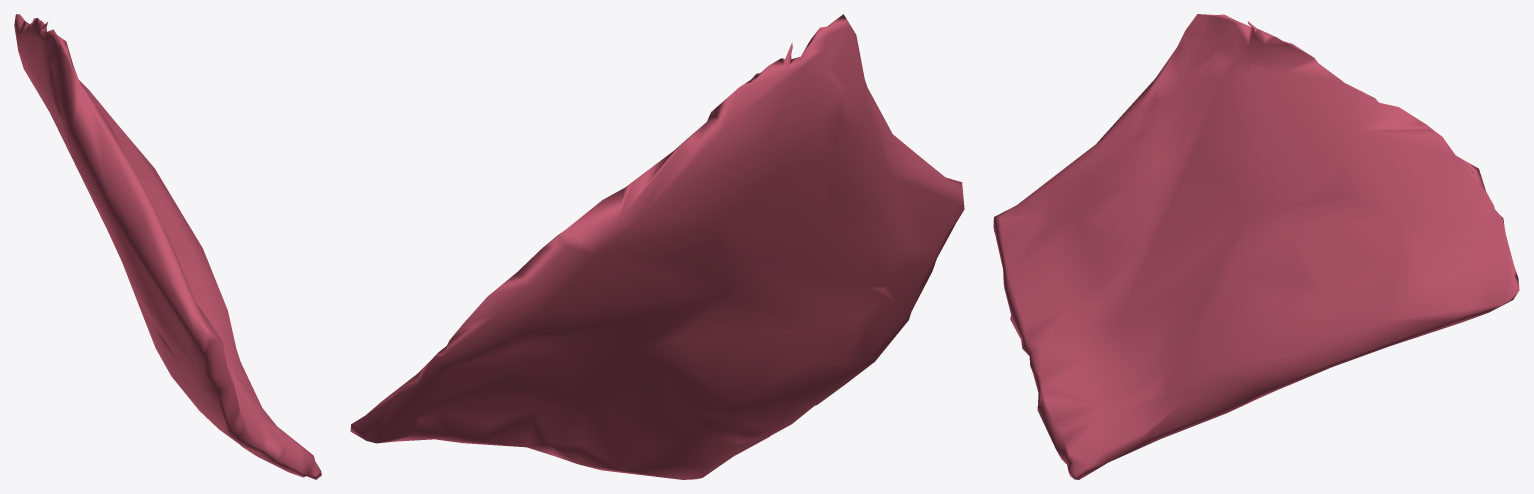
3 renders of one model, left to right at view 1: azimuth 30°, elevation 25°; view 2: azimuth 150°, elevation 25°; view 3: azimuth 270°, elevation 25°, orthographic. The views are drawn at different scales.
Parts seen in each view (by area): view 1: 右侧甲状舌骨肌; view 2: 右侧甲状舌骨肌; view 3: 右侧甲状舌骨肌.
Boxes of the visible parts, x1,y1,x2,y2 form: 右侧甲状舌骨肌: (14, 14, 321, 479); 右侧甲状舌骨肌: (350, 14, 964, 479); 右侧甲状舌骨肌: (993, 14, 1519, 479).
Bounding box in the file's own units: 0.0181 × 0.0369 × 0.0454.
